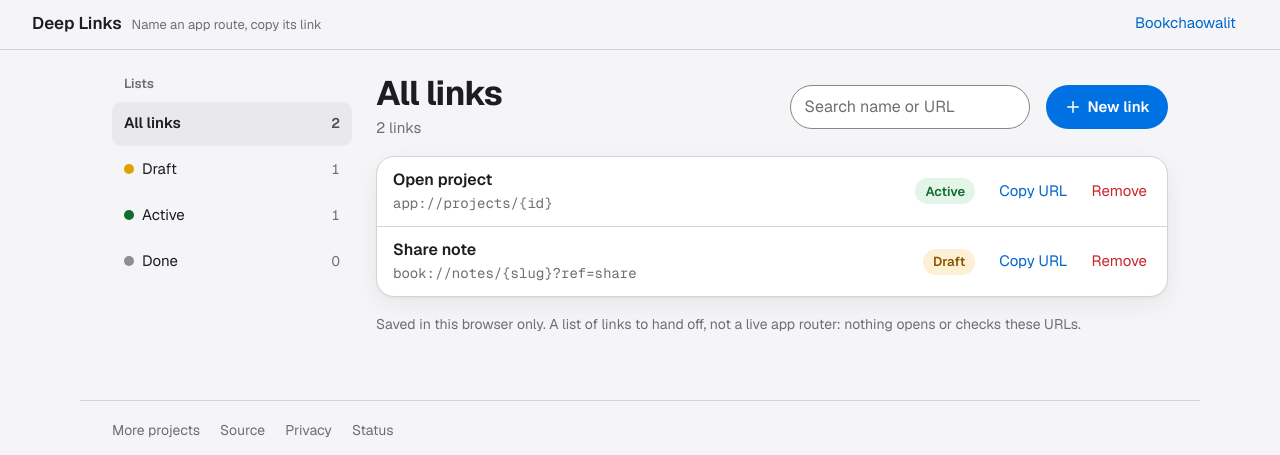
Test: deep links › filters by state and says when a list is empty
What coordinates should you click on to do the following:
click the button "Draft 1"
I would click on:
 (232, 170)
Its box is [112,148,352,192].
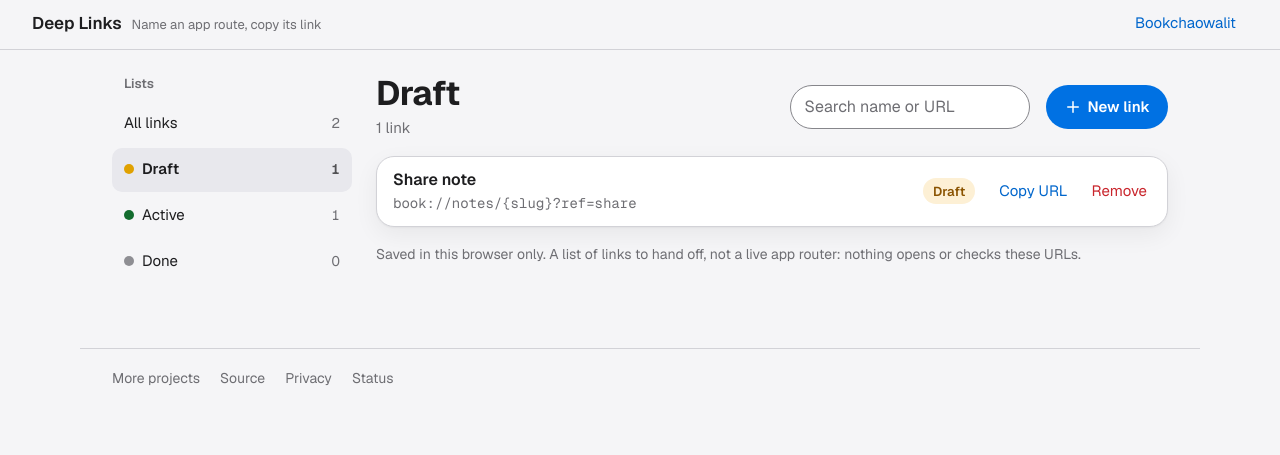
Result: the heading "Draft" is shown at [376,74,460,113]
What coordinates should you click on to do the following:
click the button "Done 0"
I would click on:
 (232, 262)
Its box is [112,240,352,284].
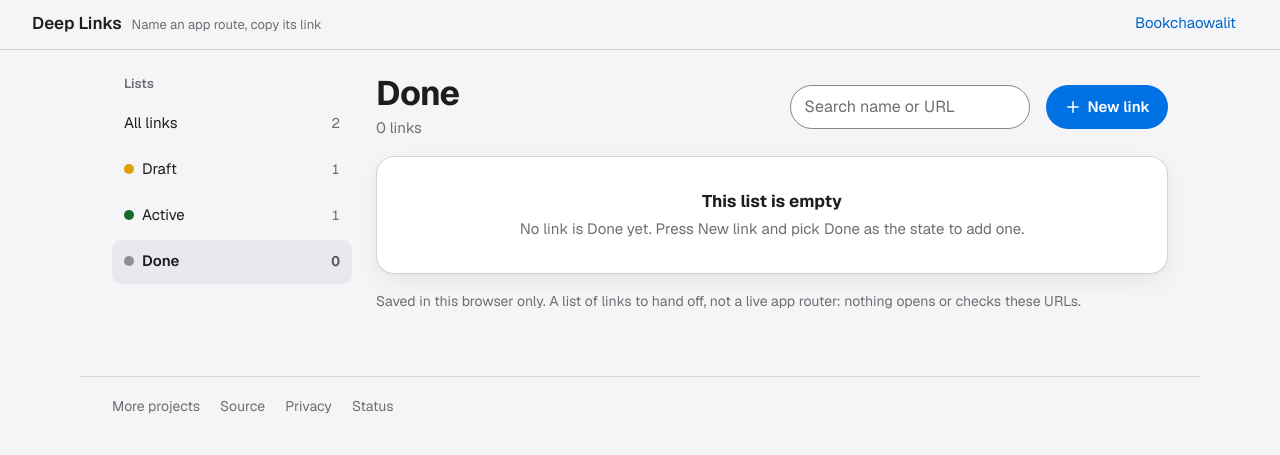
Result: the element with class "as-empty" shows "This list is empty" at [702,190,842,212]
